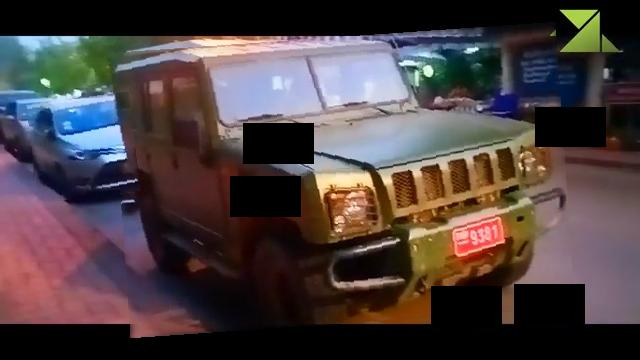MIL_HMMWV: (116, 31, 571, 331), (29, 95, 138, 201)
